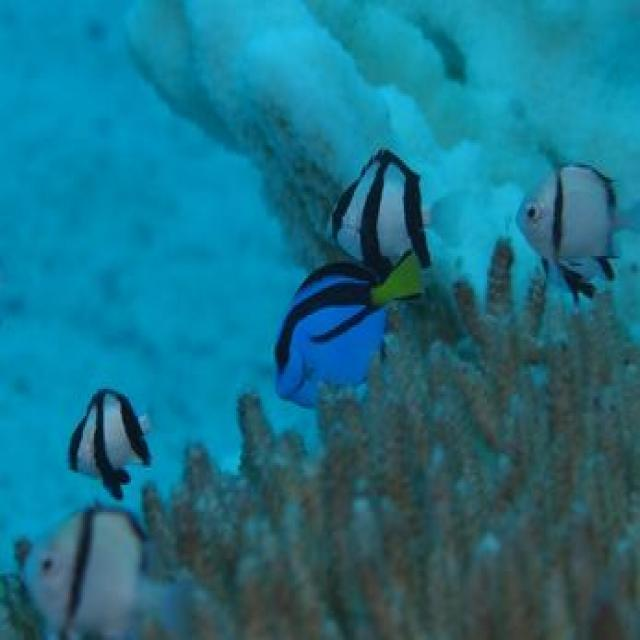TangFish: (274, 257, 433, 407)
Three_striped DasmselFish: (326, 147, 440, 273), (64, 388, 156, 502)
